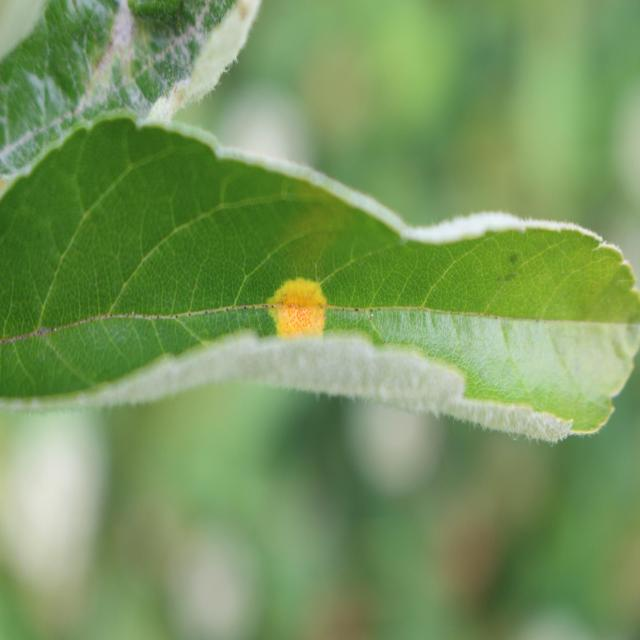Powdery_mildew: (167, 111, 597, 262), (52, 332, 586, 444)
Rust: (261, 250, 337, 368)
